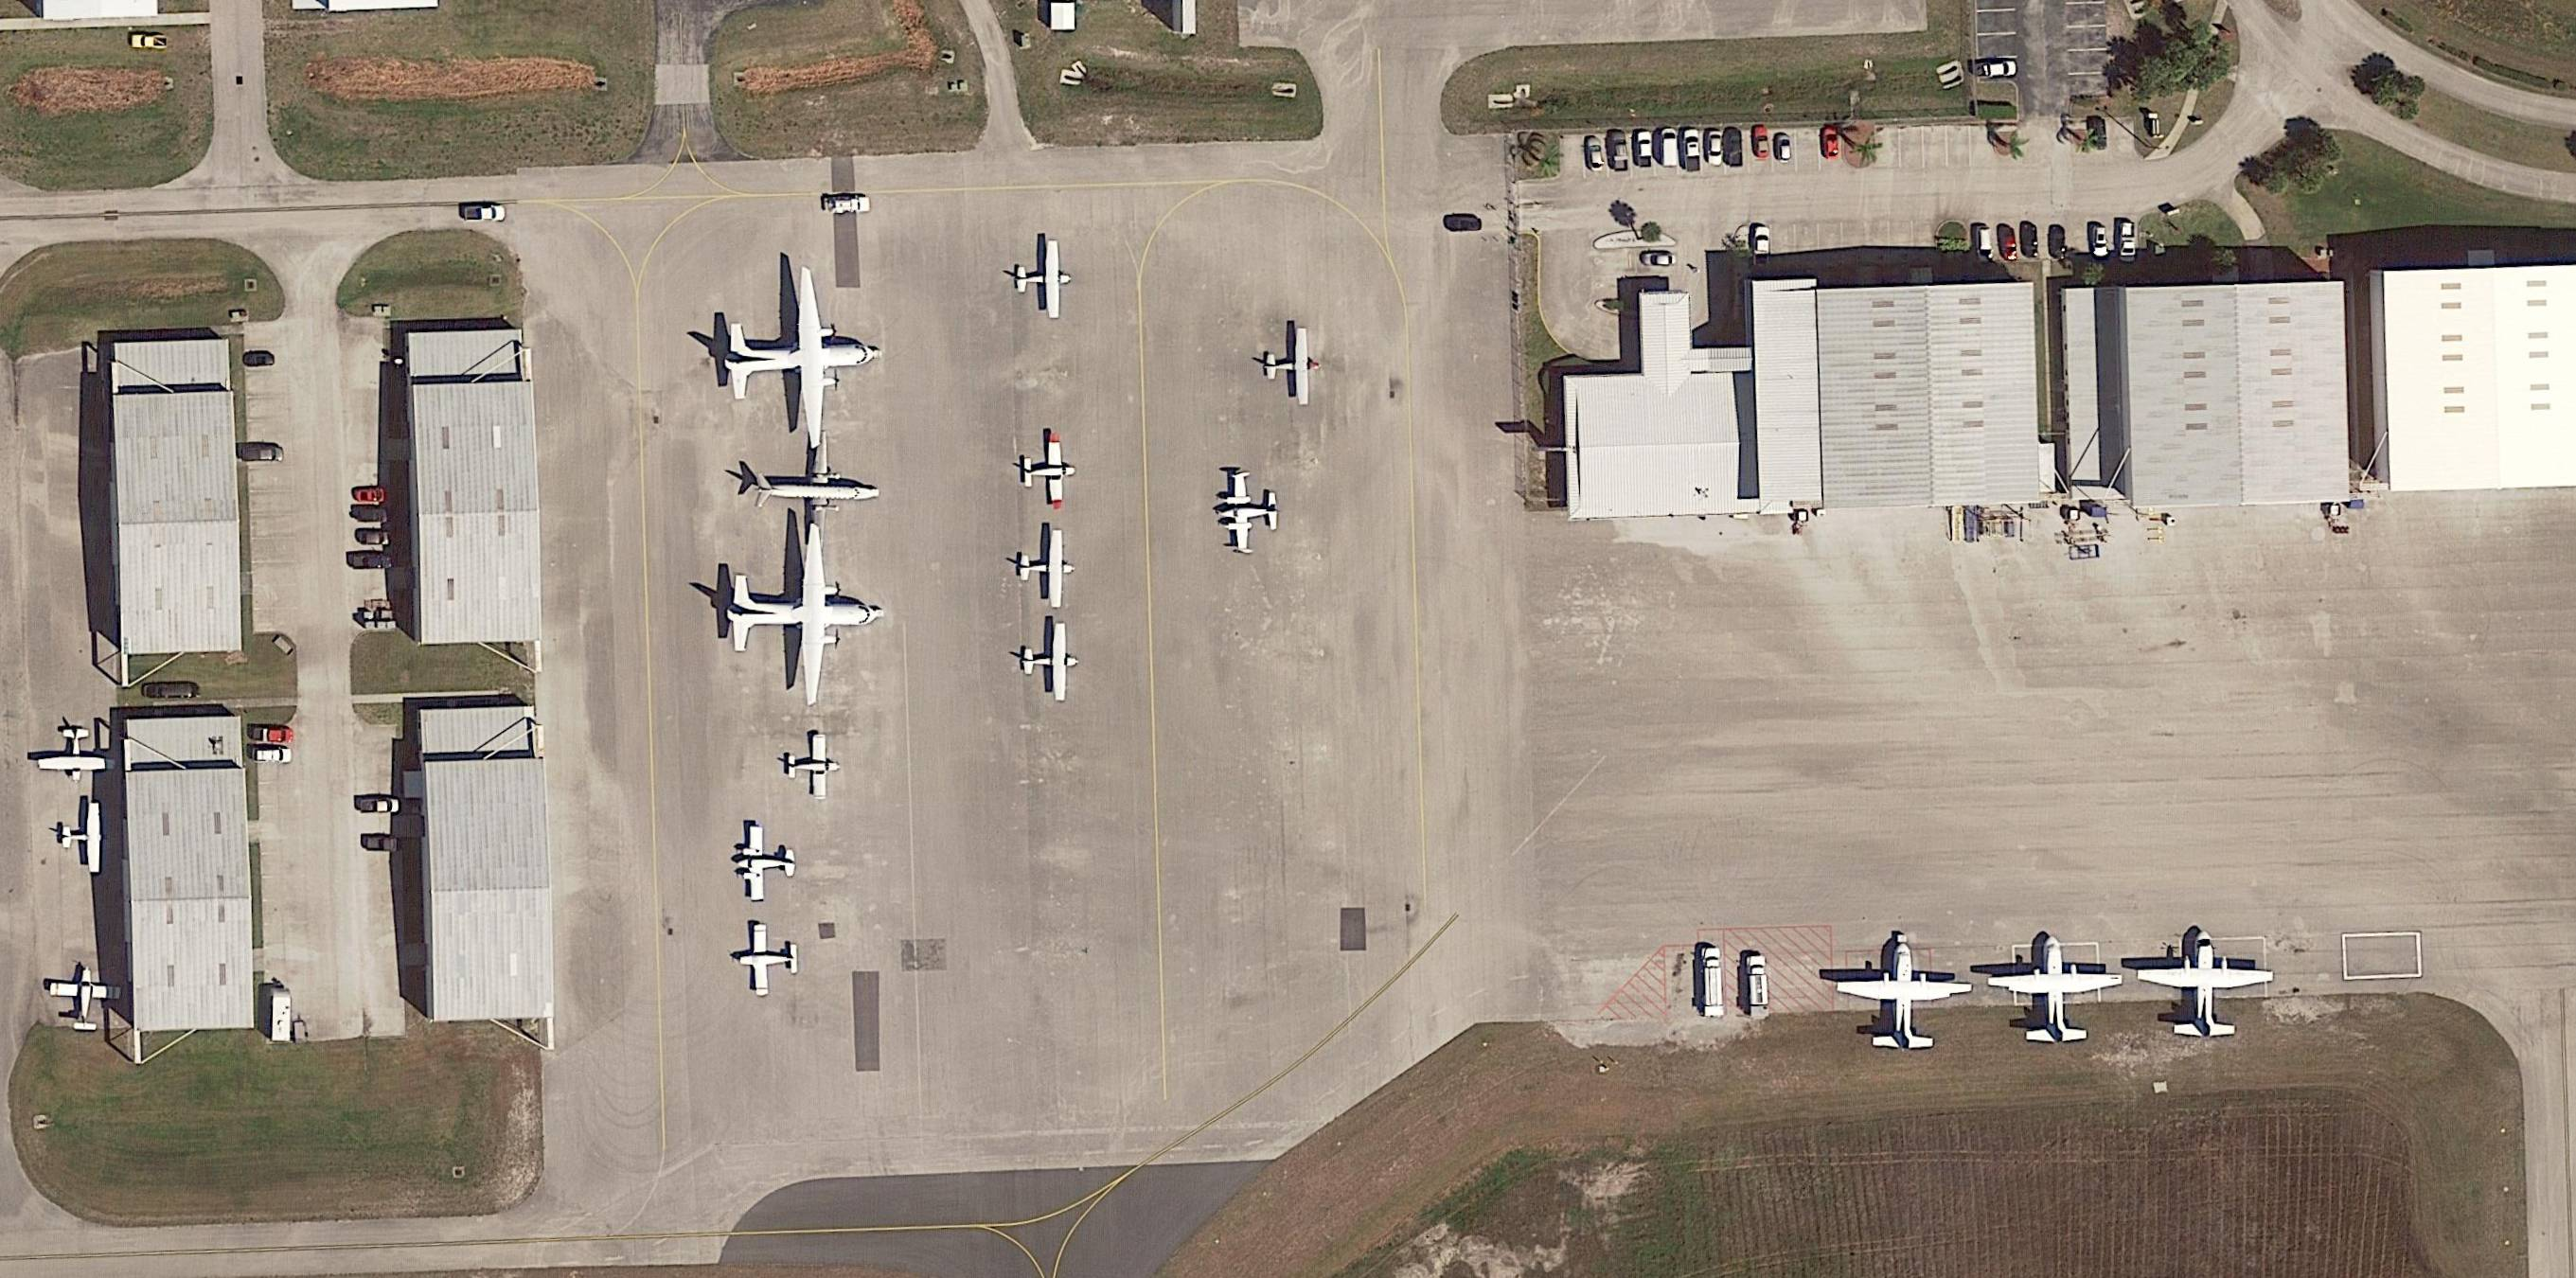large vehicle: (1702, 946, 1727, 1018), (1745, 954, 1771, 1020)
plane: (716, 263, 887, 458), (721, 516, 882, 705), (747, 425, 887, 557), (1833, 936, 1973, 1051), (1986, 931, 2124, 1043), (2134, 928, 2272, 1038), (1216, 470, 1283, 555), (46, 963, 123, 1035), (1020, 621, 1081, 703), (1014, 238, 1073, 320), (1019, 526, 1076, 609), (1260, 327, 1321, 406), (736, 825, 797, 903), (739, 922, 800, 999), (1020, 430, 1076, 513), (39, 728, 117, 780), (61, 800, 115, 874), (785, 733, 841, 802)
small vehicle: (350, 550, 396, 572), (1681, 128, 1702, 174), (823, 195, 872, 215), (463, 204, 508, 225), (1996, 222, 2019, 263), (251, 724, 294, 746), (358, 797, 399, 816), (1975, 61, 2019, 79), (241, 447, 284, 465), (1612, 131, 1630, 174), (353, 485, 389, 506), (131, 33, 169, 53), (1444, 215, 1485, 233), (2118, 222, 2136, 263), (1753, 227, 1771, 268), (2047, 225, 2068, 260), (1661, 128, 1679, 168), (251, 747, 294, 764), (1705, 130, 1723, 168), (2019, 223, 2039, 258), (1751, 126, 1771, 161), (1973, 227, 1991, 263), (358, 506, 394, 524), (1585, 136, 1603, 172), (356, 531, 394, 547), (1636, 131, 1653, 169), (2090, 227, 2108, 260), (1641, 251, 1677, 268), (243, 352, 276, 368), (1822, 128, 1838, 159), (1774, 135, 1791, 164)
